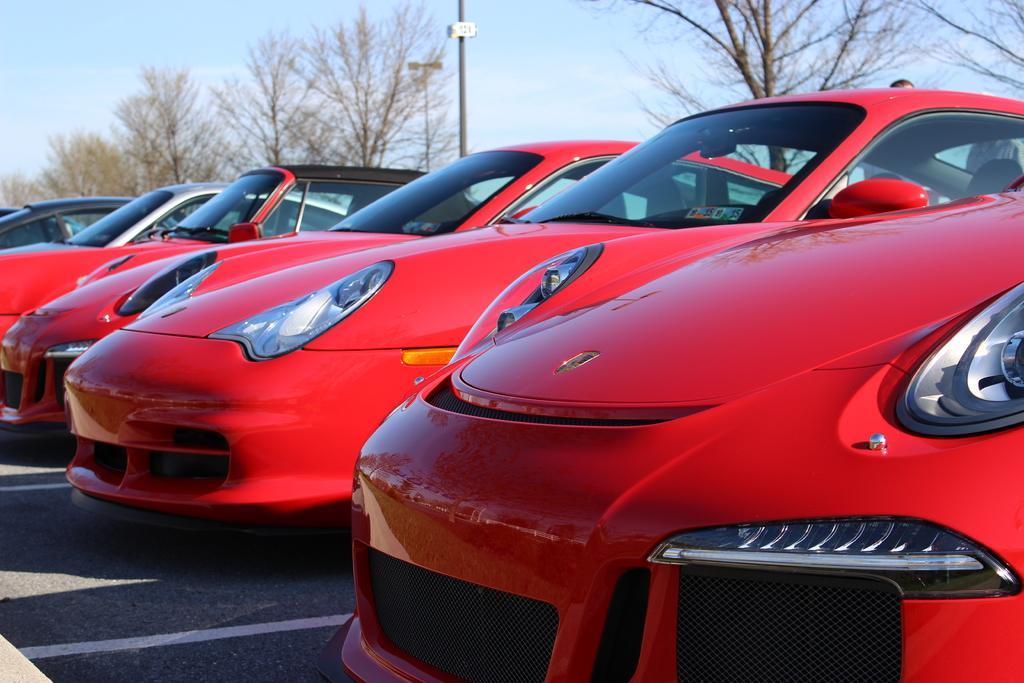Car: (0, 78, 1023, 682)
